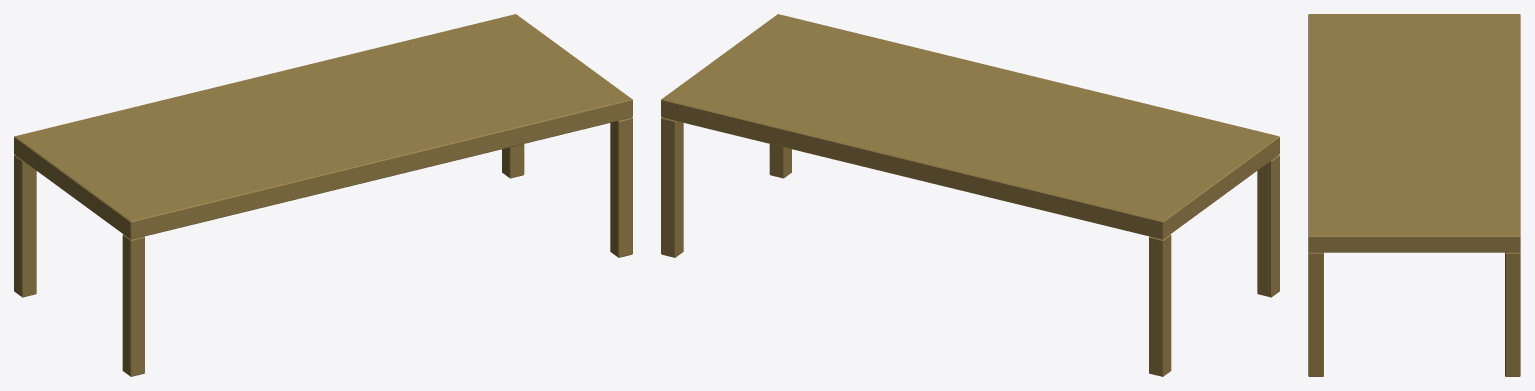
The model's file is KitchenTableGeo.fbx.
The picture shows the model from 3 angles, left to right: view 1: azimuth 30°, elevation 25°; view 2: azimuth 150°, elevation 25°; view 3: azimuth 270°, elevation 25°; orthographic projection. The views are drawn at different scales.
Parts seen in each view (by area): view 1: KitchenTableGeo; view 2: KitchenTableGeo; view 3: KitchenTableGeo.
Boxes of the visible parts, x1,y1,x2,y2 form: KitchenTableGeo: (14, 14, 632, 376); KitchenTableGeo: (661, 14, 1279, 376); KitchenTableGeo: (1308, 14, 1520, 376).
Bounding box in the file's own units: 533 × 158 × 215.
